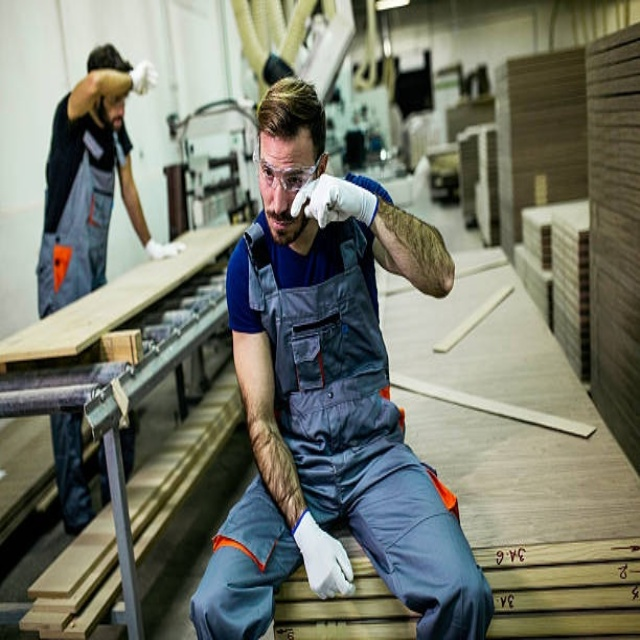Gafas: (256, 140, 321, 192)
Guantes: (291, 508, 354, 600), (292, 174, 378, 232), (129, 59, 158, 95), (146, 237, 186, 260)
Sin_mascara: (266, 202, 297, 245), (104, 111, 132, 132)
